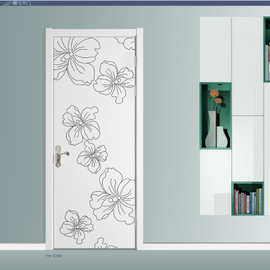door: (53, 35, 139, 249)
